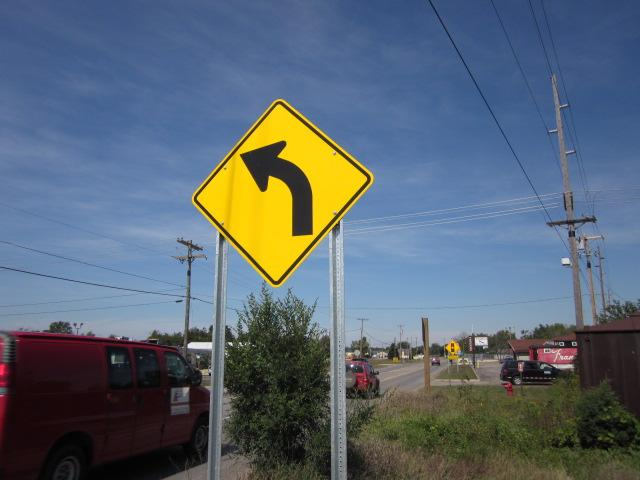warning: (194, 100, 376, 285)
